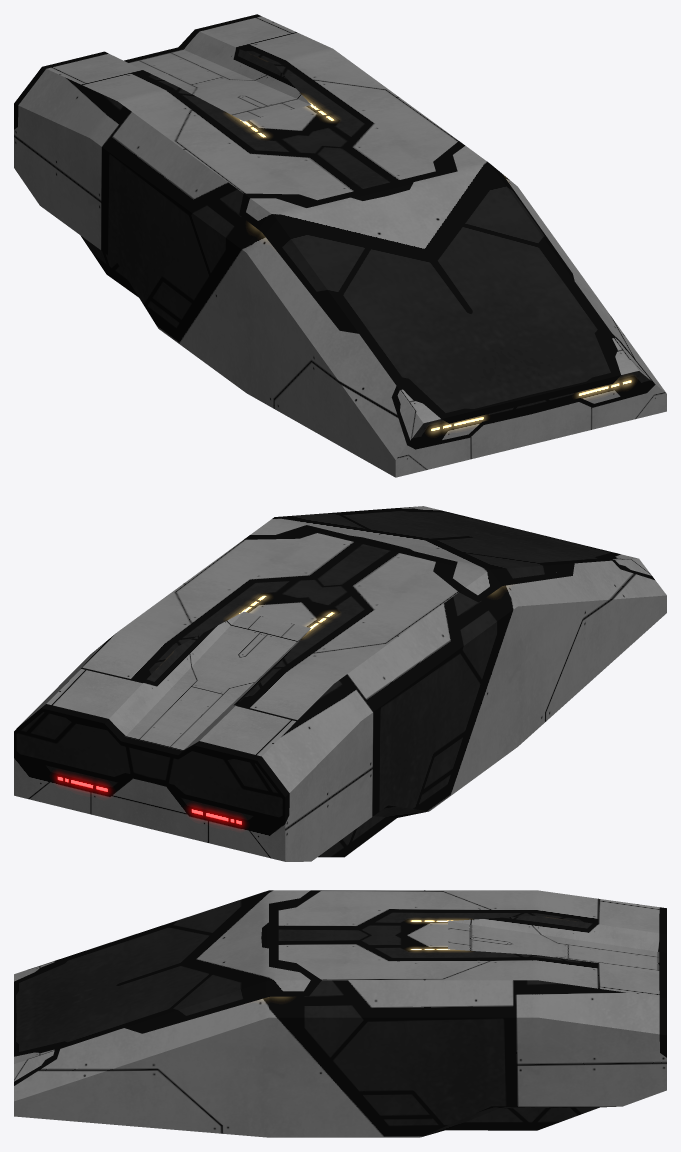
Rendered from city_car_03.glb.
3 renders of one model, top to bottom at view 1: azimuth 30°, elevation 25°; view 2: azimuth 150°, elevation 25°; view 3: azimuth 270°, elevation 25°, orthographic. The views are drawn at different scales.
Parts seen in each view (by area): view 1: sci-fi_LODs_set_004_01; view 2: sci-fi_LODs_set_004_01; view 3: sci-fi_LODs_set_004_01.
Boxes of the visible parts, <box> form: sci-fi_LODs_set_004_01: <box>14,14,666,477</box>; sci-fi_LODs_set_004_01: <box>14,506,666,861</box>; sci-fi_LODs_set_004_01: <box>14,890,666,1137</box>.
Size of the model in its own units: 2 by 1.2 by 4.87.
2 materials, 1 textured.
